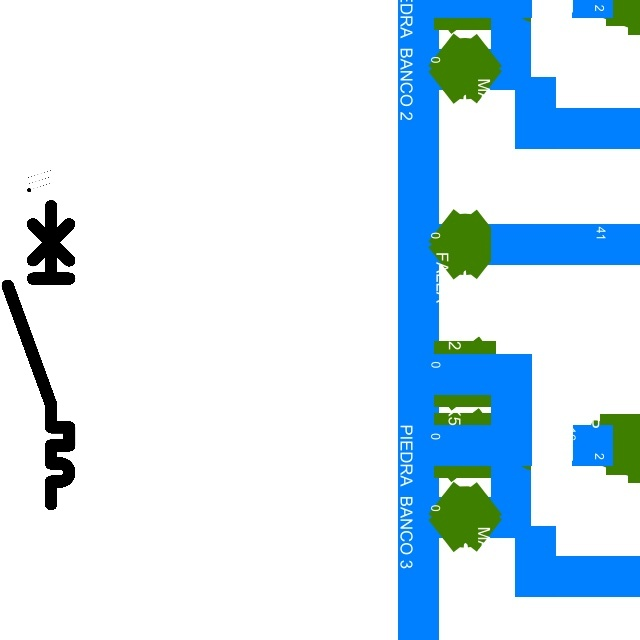interruptor_termomagnetico: (0, 198, 77, 511)
